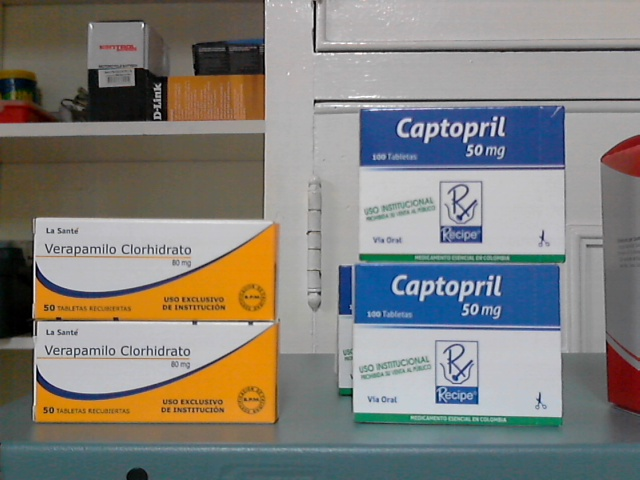LaSante: (36, 221, 275, 323), (37, 324, 276, 424)
